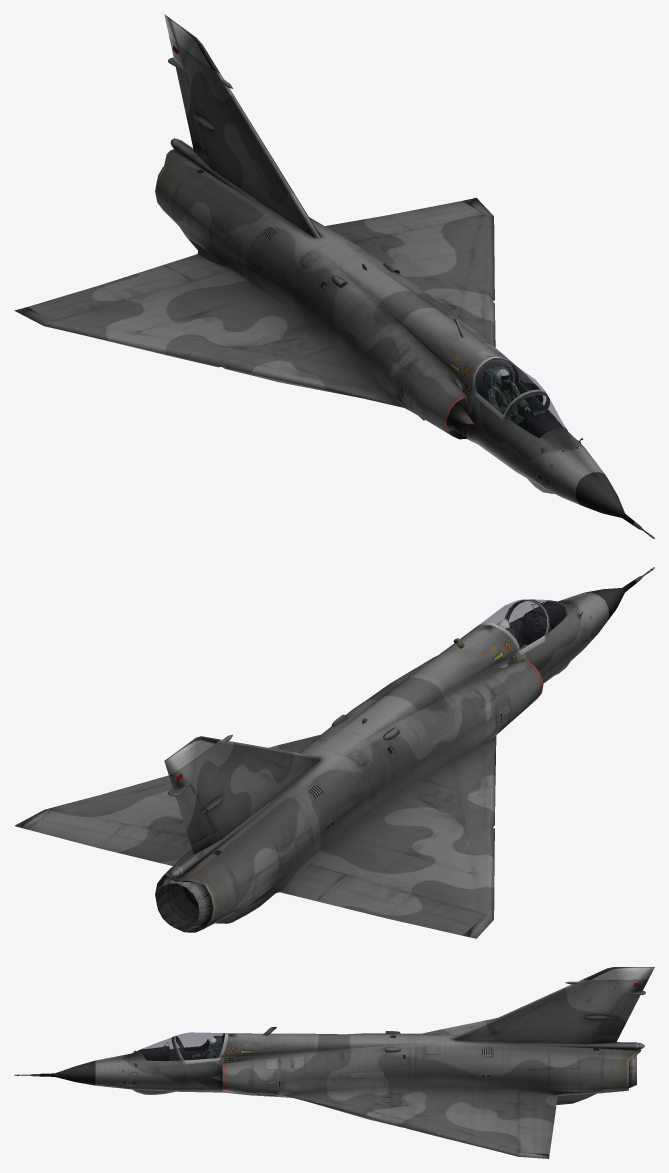
File: Dassault_Mirage_III.dat.obj
The picture shows the model from 3 angles, top to bottom: view 1: azimuth 30°, elevation 25°; view 2: azimuth 150°, elevation 25°; view 3: azimuth 270°, elevation 25°; orthographic projection. The views are drawn at different scales.
Visible parts, largest first — view 1: Mirage_III_LOD0_default, Mirage_III_Glass_Canopy01_default, Mirage_III_AileronR01_default, Mirage_III_ElevatorR01_default, Mirage_III_AileronL01_default, Mirage_III_ElevatorL01_default, Mirage_III_Pilot01_default, Mirage_III_FlapR01_default, Mirage_III_Canopy01_default, Mirage_III_RudderL01_default; view 2: Mirage_III_LOD0_default, Mirage_III_EngineL01_default, Mirage_III_ElevatorR01_default, Mirage_III_Glass_Canopy01_default, Mirage_III_AileronR01_default, Mirage_III_ElevatorL01_default, Mirage_III_AileronL01_default, Mirage_III_RudderL01_default, Mirage_III_FlapR01_default, Mirage_III_Canopy01_default; view 3: Mirage_III_LOD0_default, Mirage_III_Glass_Canopy01_default, Mirage_III_RudderL01_default, Mirage_III_ElevatorL01_default, Mirage_III_AileronL01_default, Mirage_III_Canopy01_default, Mirage_III_FlapL01_default.
Part boxes in pixels (x1,y1,x2,y2): Mirage_III_LOD0_default: [14, 14, 654, 538]; Mirage_III_Glass_Canopy01_default: [475, 358, 565, 437]; Mirage_III_AileronR01_default: [28, 285, 125, 321]; Mirage_III_ElevatorR01_default: [99, 265, 192, 300]; Mirage_III_AileronL01_default: [386, 201, 485, 230]; Mirage_III_ElevatorL01_default: [325, 215, 411, 241]; Mirage_III_Pilot01_default: [489, 369, 530, 424]; Mirage_III_FlapR01_default: [164, 254, 227, 280]; Mirage_III_Canopy01_default: [471, 356, 547, 419]; Mirage_III_RudderL01_default: [175, 67, 207, 153]; Mirage_III_LOD0_default: [14, 567, 654, 938]; Mirage_III_EngineL01_default: [156, 876, 213, 929]; Mirage_III_ElevatorR01_default: [316, 874, 411, 917]; Mirage_III_Glass_Canopy01_default: [481, 599, 567, 649]; Mirage_III_AileronR01_default: [386, 894, 485, 935]; Mirage_III_ElevatorL01_default: [99, 824, 189, 863]; Mirage_III_AileronL01_default: [28, 809, 124, 848]; Mirage_III_RudderL01_default: [175, 785, 216, 845]; Mirage_III_FlapR01_default: [280, 864, 344, 900]; Mirage_III_Canopy01_default: [477, 599, 548, 656]; Mirage_III_LOD0_default: [14, 967, 654, 1158]; Mirage_III_Glass_Canopy01_default: [142, 1032, 224, 1060]; Mirage_III_RudderL01_default: [592, 994, 640, 1036]; Mirage_III_ElevatorL01_default: [518, 1103, 556, 1129]; Mirage_III_AileronL01_default: [518, 1127, 552, 1154]; Mirage_III_Canopy01_default: [173, 1033, 228, 1064]; Mirage_III_FlapL01_default: [518, 1091, 557, 1106].
Bounding box in the file's own units: 8.24 × 3.6 × 15.14.
